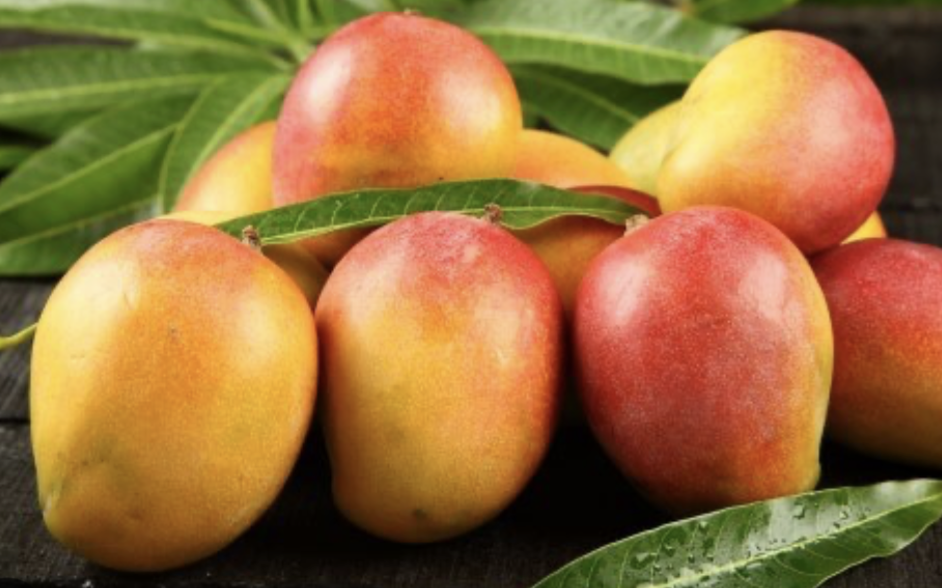mango: (19, 191, 334, 562), (556, 171, 855, 546), (304, 218, 590, 548), (250, 0, 552, 261)
